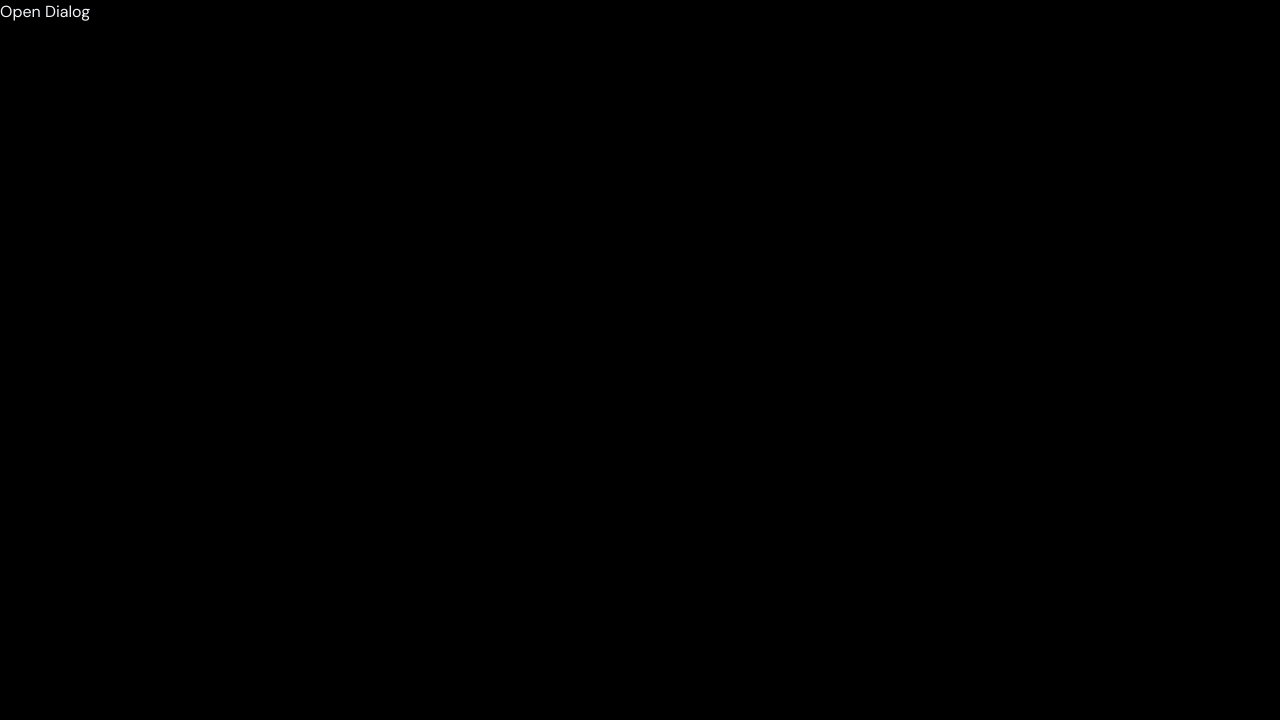
Test case: Primitive Components Behavioral Tests › Dialog › opens and closes correctly
The width and height of the screenshot is (1280, 720).
expect the text "Dialog Title" is not shown: met
# Open dialog
Click the button "Open Dialog".
click(45, 12)  # box [0,0,90,24]
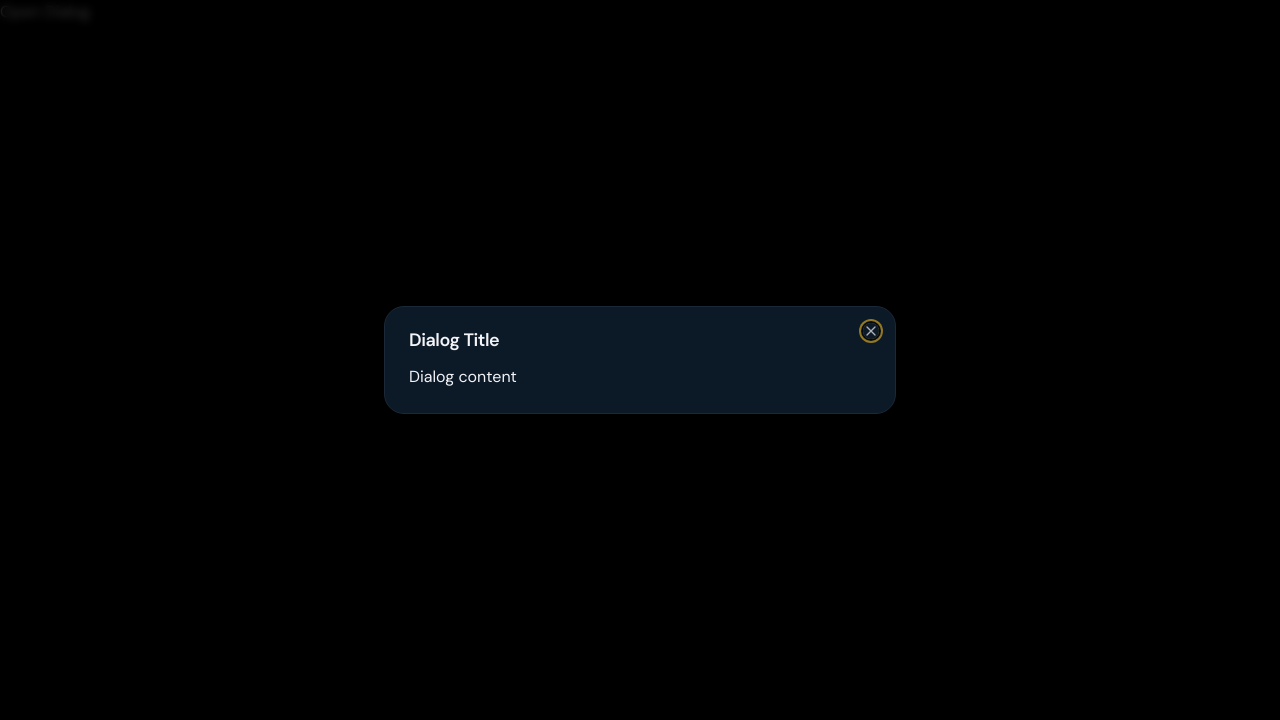
expect the heading "Dialog Title" is shown: met, box [409,328,499,352]
# Close dialog (the X button)
Click the button named "Close".
click(871, 331)  # box [863,323,879,339]
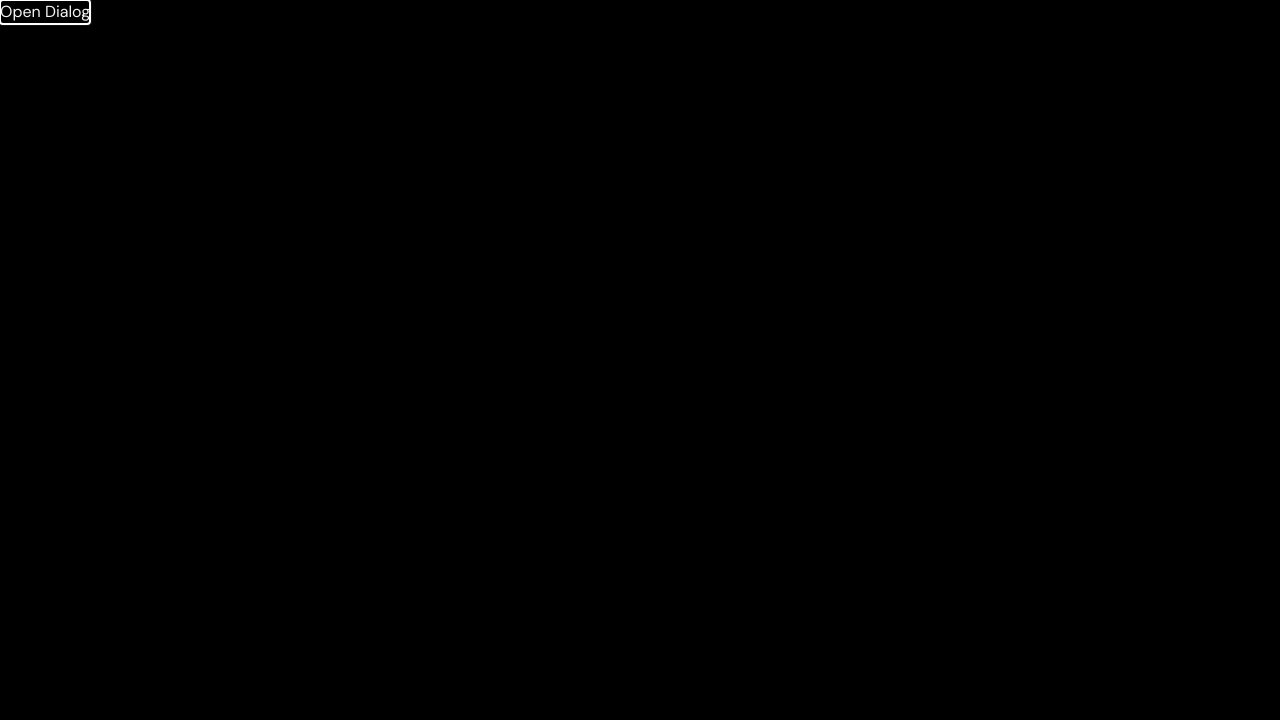
expect the heading "Dialog Title" is gone: met
